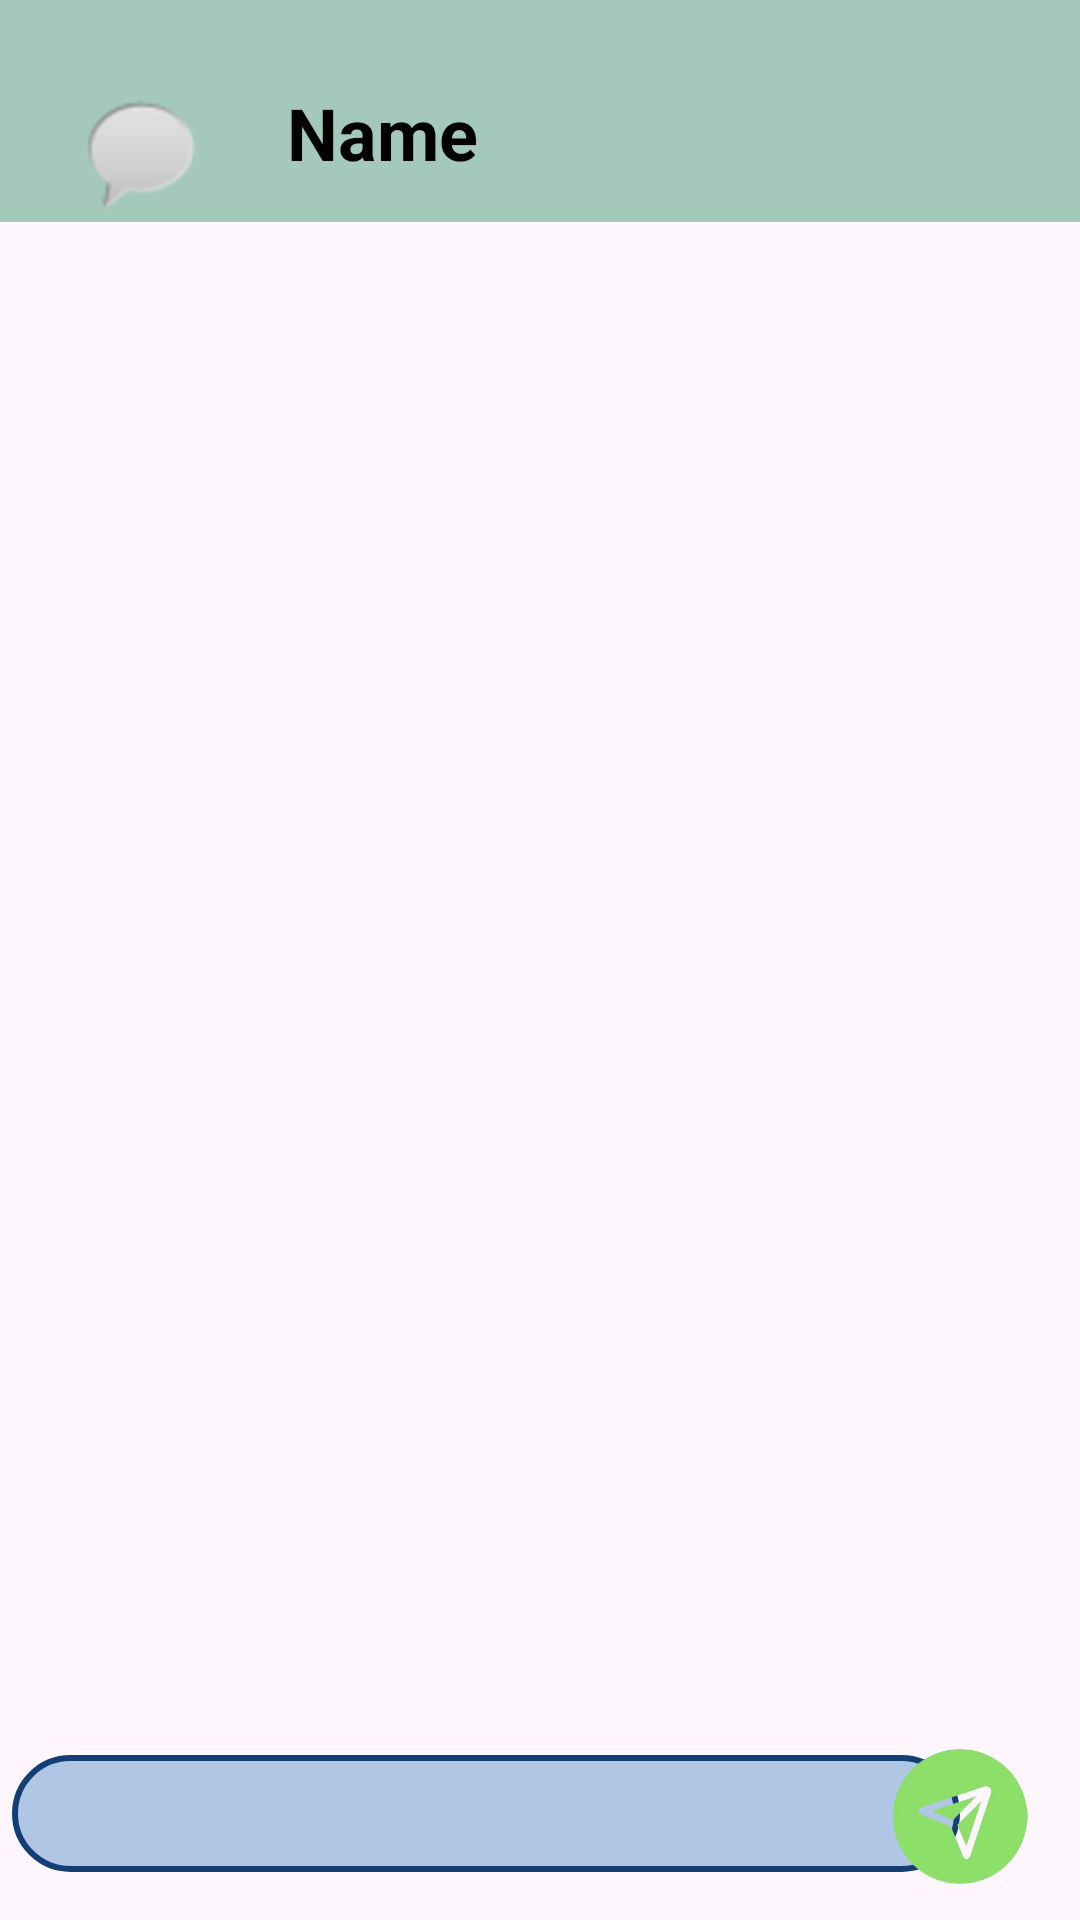

Icons on this 1080 × 1920 Android screen, each with its box as (x1, y1, x2, y2):
send message: (888, 1749, 1028, 1884)
sym action chat: (89, 103, 194, 206)
